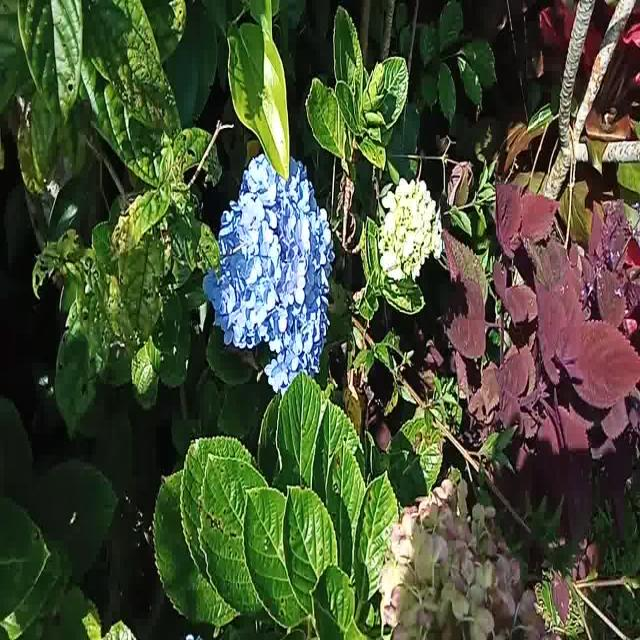Flower: (204, 145, 329, 387), (374, 170, 446, 287)
